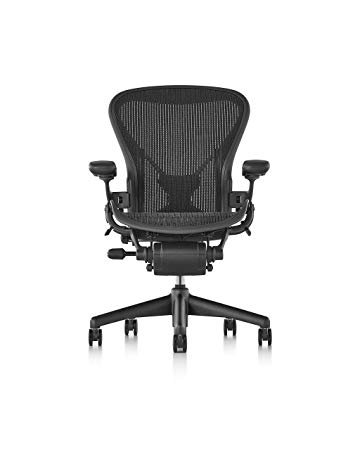chairs: (89, 86, 277, 354)
